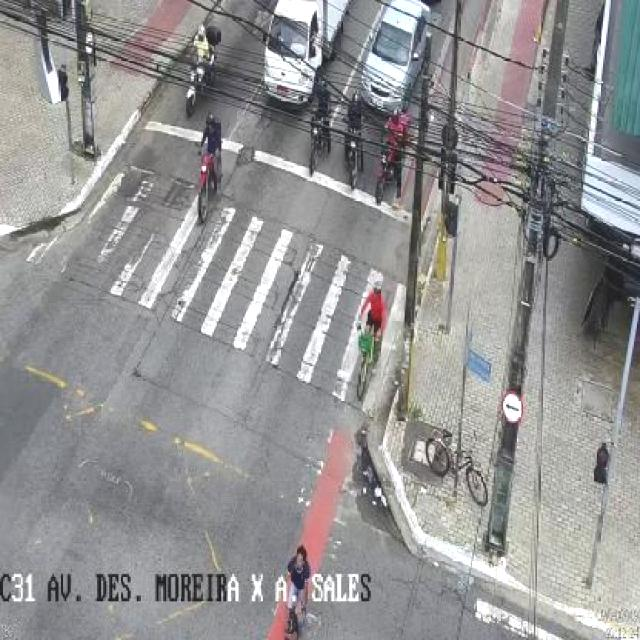Car: (356, 0, 436, 113)
Cycle: (421, 427, 488, 506), (183, 23, 223, 120), (372, 113, 413, 203), (350, 312, 388, 401), (192, 137, 222, 223), (307, 95, 335, 180), (346, 91, 362, 189)
Truck: (262, 0, 351, 109)
